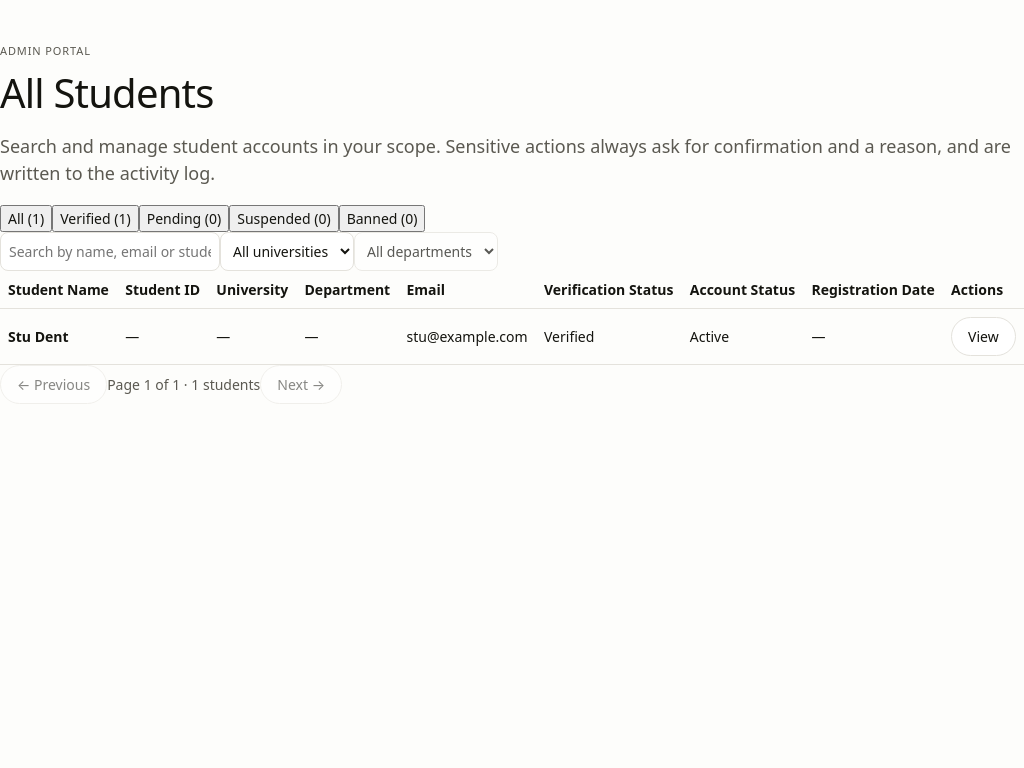
Test: Users role gating (D-118) › Platform Admin sees Suspend and Ban
Expected: the text "Stu Dent" is shown, [8,326,68,346]
Click the button "View" at (983, 336), box [951,316,1016,356]
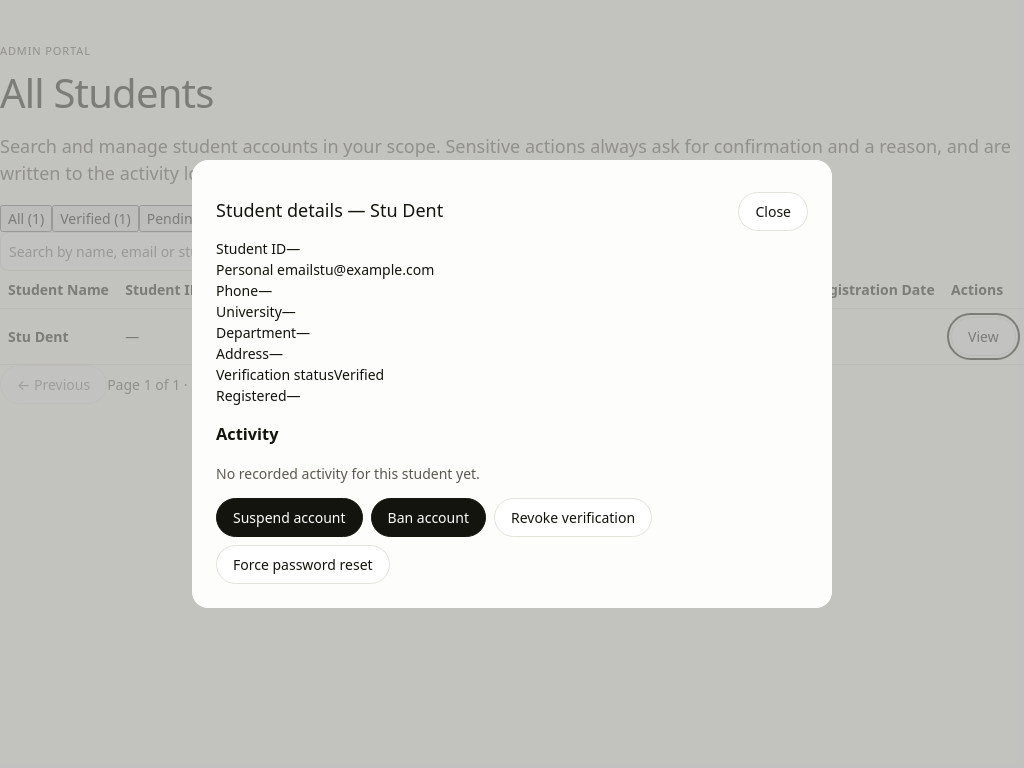
Result: the button "Suspend account" is shown at [216,498,363,537]
Result: the button "Ban account" is shown at [371,498,486,537]
